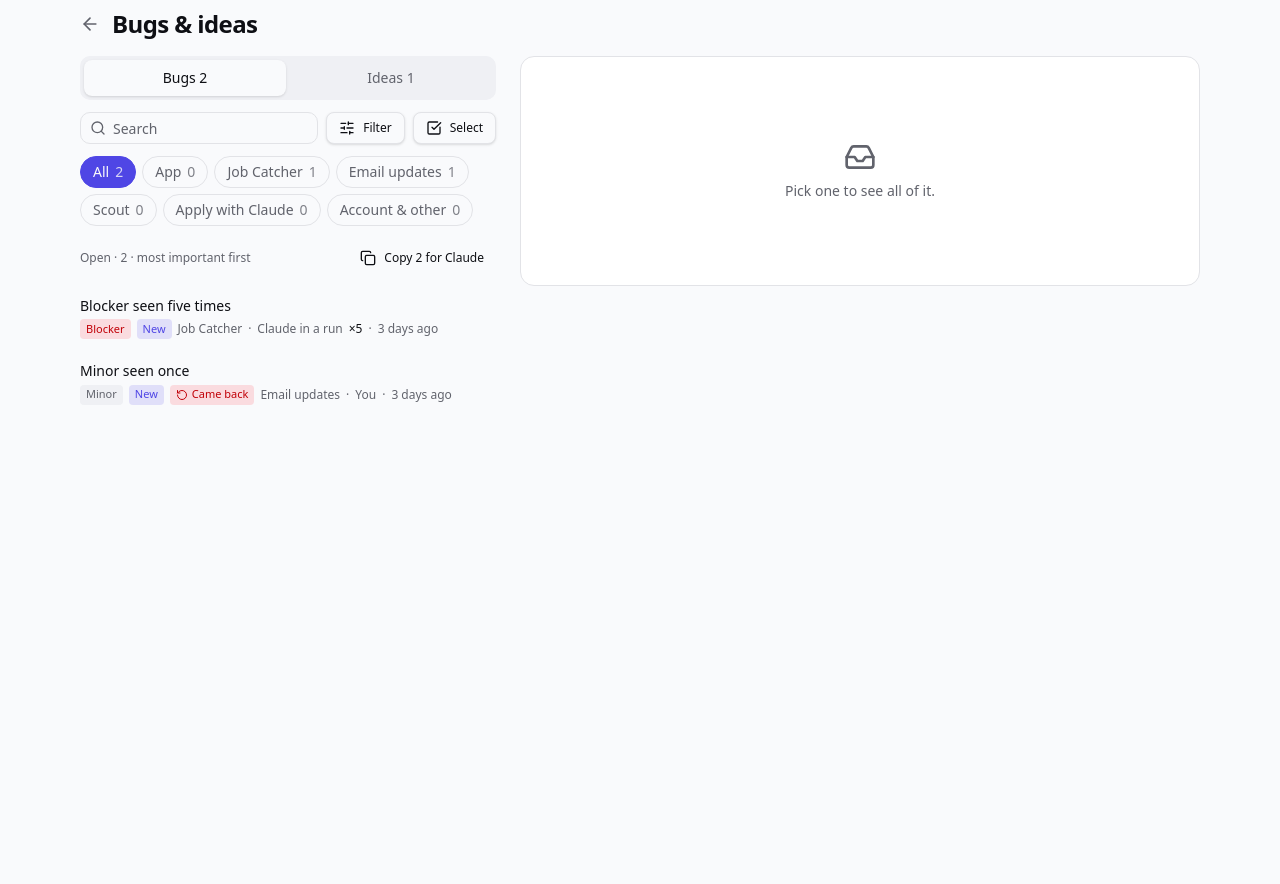
Test: Bugs & ideas › opens a report in the side panel, with everything on it
Click the text "Blocker seen five times" at (155, 306), box [80,296,231,315]
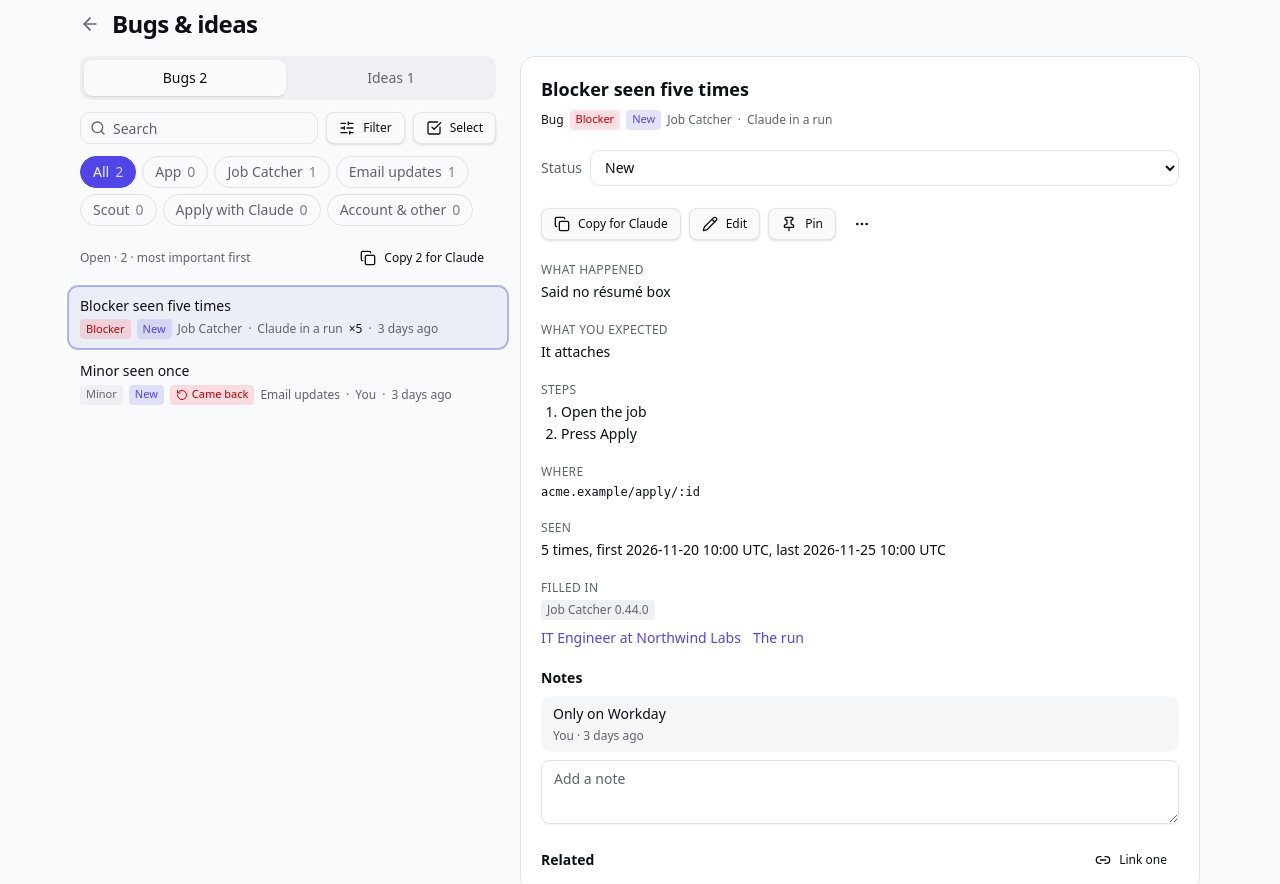
Result: the text "Said no résumé box" is shown at [541,282,671,301]
Result: the text "It attaches" is shown at [541,342,610,361]
Result: the list item "Press Apply" is shown at [561,424,637,443]
